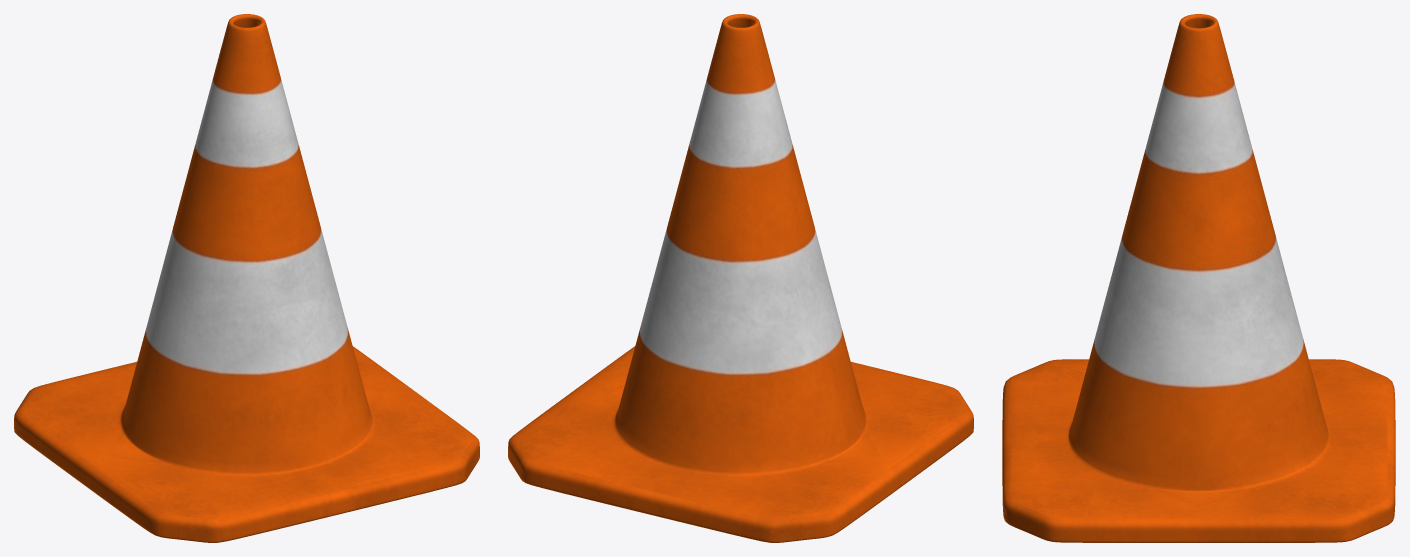
3 renders of one model, left to right at view 1: azimuth 30°, elevation 25°; view 2: azimuth 150°, elevation 25°; view 3: azimuth 270°, elevation 25°, orthographic. The views are drawn at different scales.
Parts seen in each view (by area): view 1: Cone Normal; view 2: Cone Normal; view 3: Cone Normal.
Part boxes in pixels (left/top/right/bottom): Cone Normal: left=14, top=14, right=479, bottom=542; Cone Normal: left=508, top=14, right=973, bottom=542; Cone Normal: left=1002, top=14, right=1395, bottom=542.
Size of the model in its own units: 0.42 by 0.5188 by 0.42.
1 material, 1 textured.
